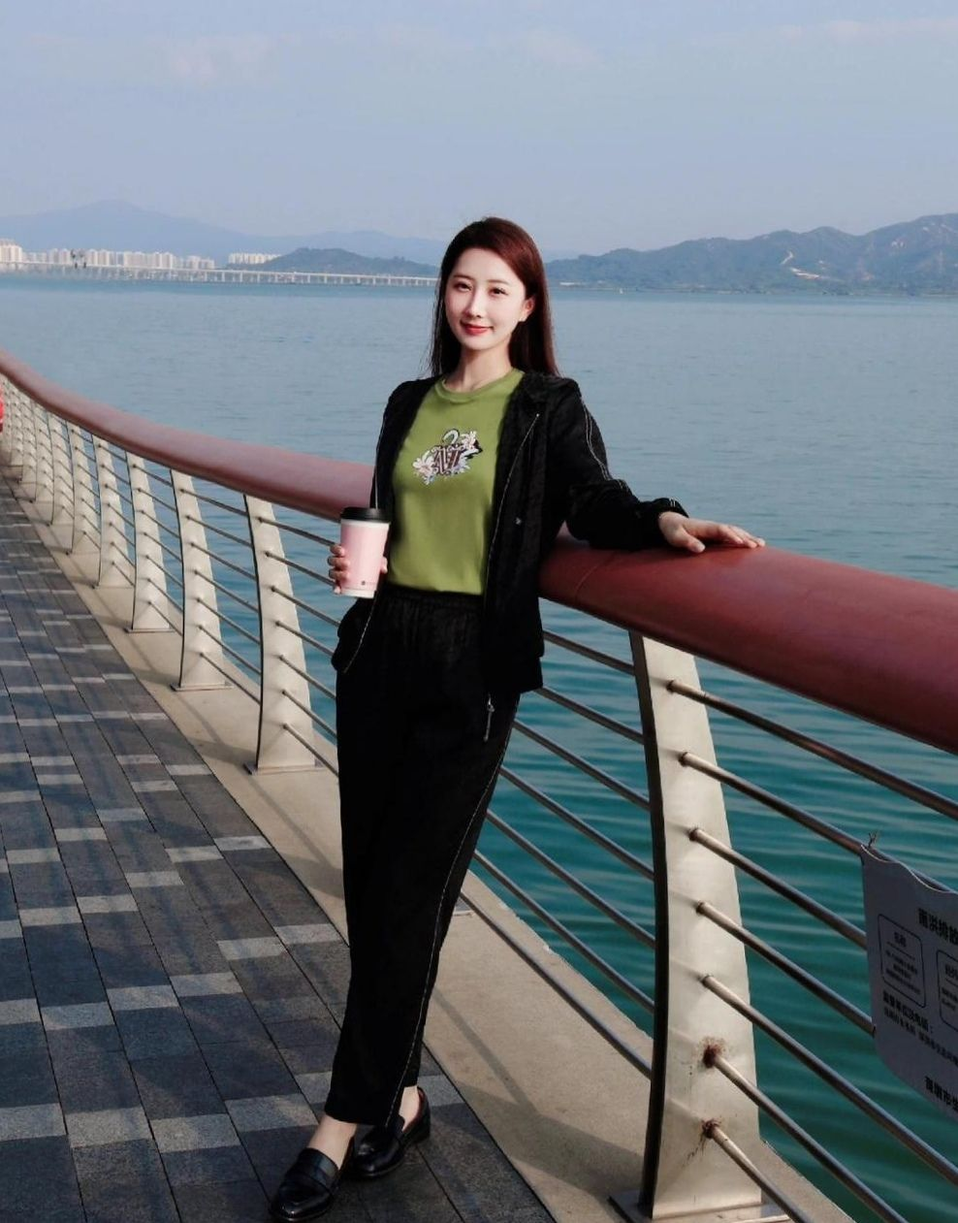up: (301, 207, 756, 1223)
